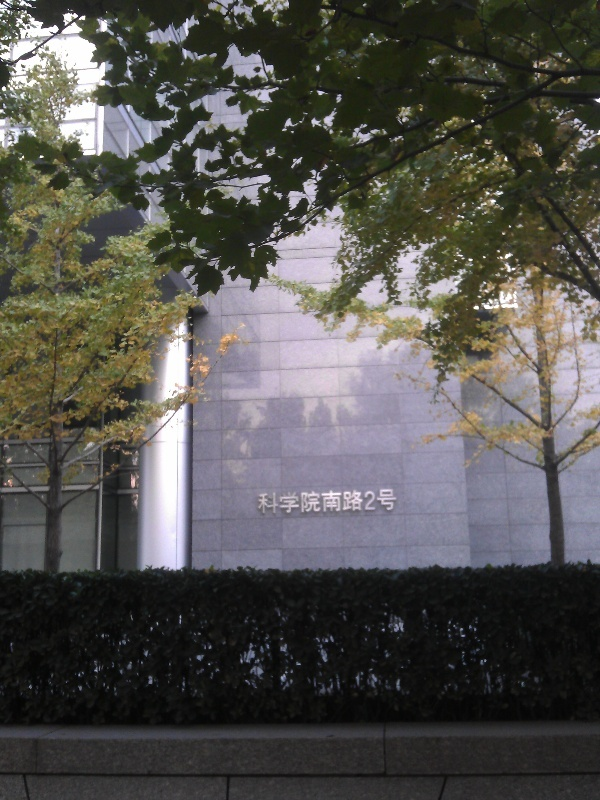text: (257, 488, 272, 518), (273, 488, 288, 518), (289, 488, 304, 518), (305, 488, 320, 518), (321, 488, 336, 518), (337, 488, 352, 518), (353, 488, 368, 518), (369, 488, 384, 518), (385, 488, 399, 518), (254, 488, 256, 518)
